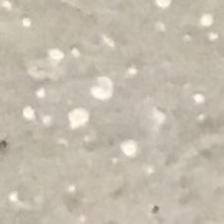Non_Crack: (38, 28, 209, 205)
